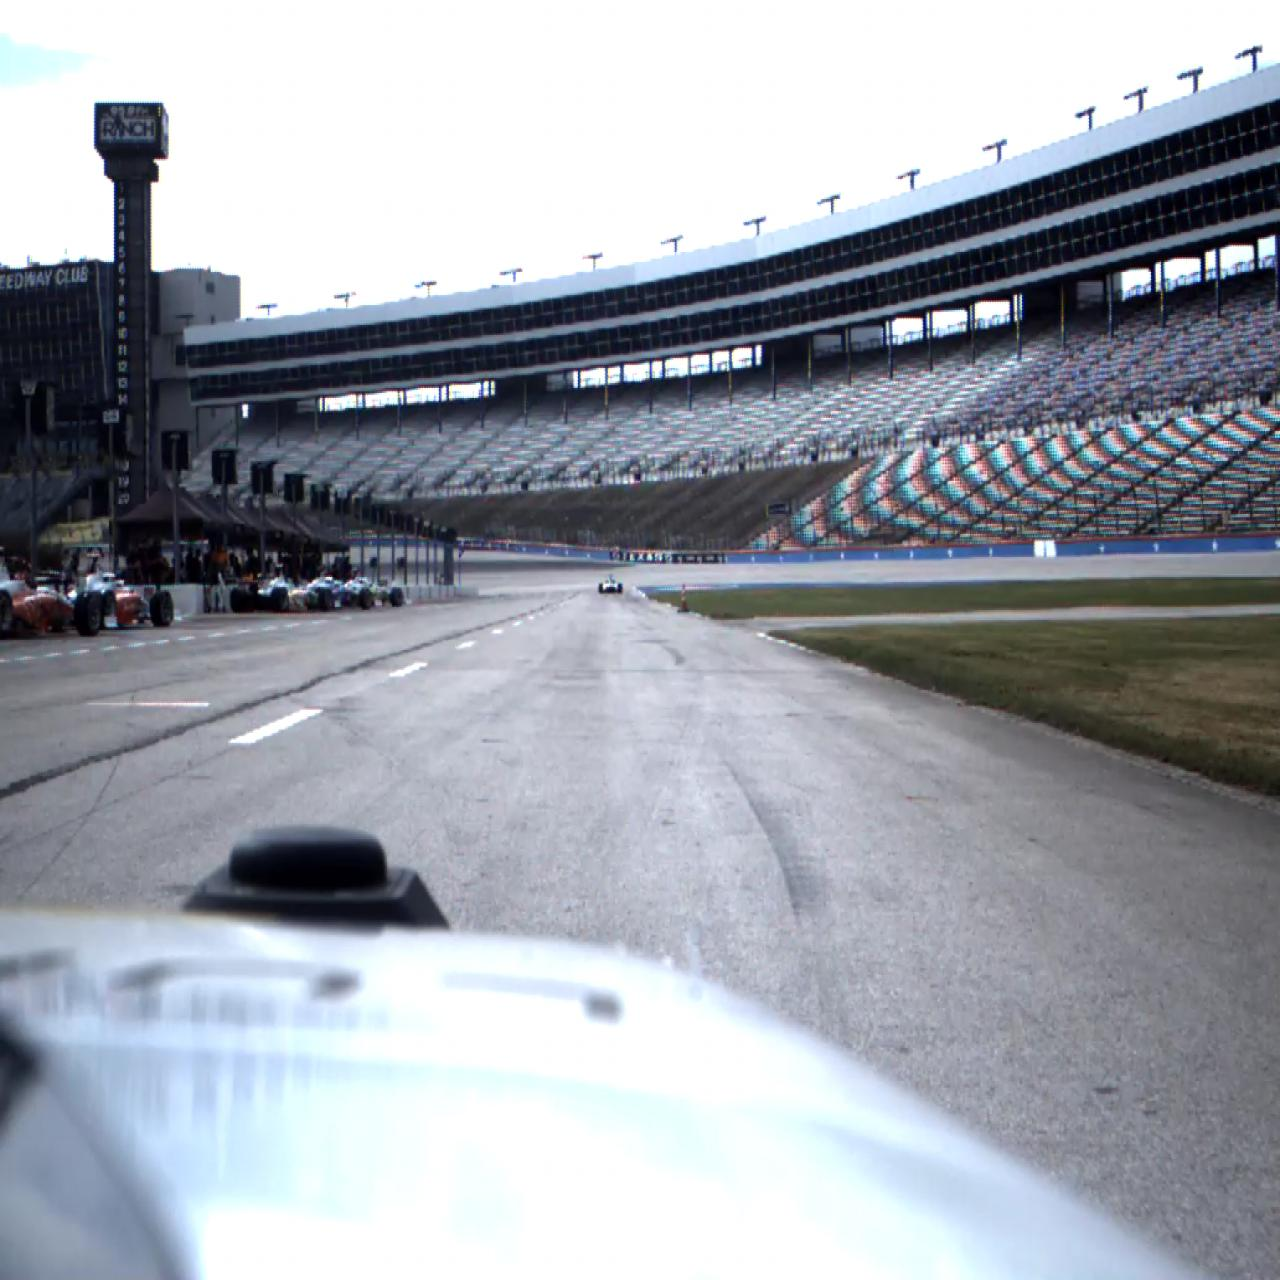AV: (230, 562, 335, 614), (598, 574, 623, 594)
Wheel: (76, 591, 104, 636), (150, 591, 174, 627), (0, 588, 12, 638), (270, 587, 288, 613), (230, 586, 245, 614), (319, 588, 333, 612), (390, 587, 404, 607), (360, 588, 372, 610), (618, 583, 623, 594), (598, 583, 602, 594)
